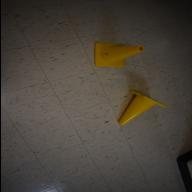cone: (117, 90, 166, 126), (93, 42, 144, 67)
